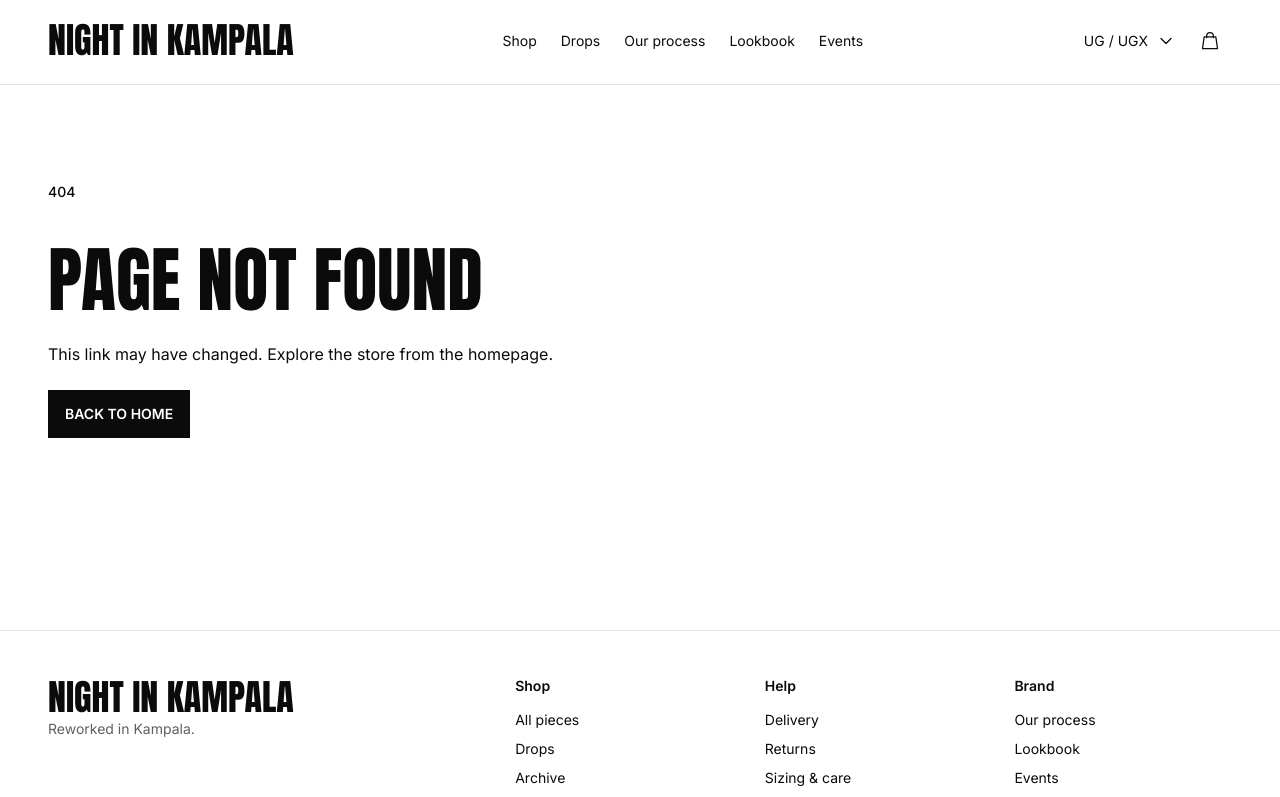
Scenario: server 404s display the useful not-found screen and navigation still works
Expected: the heading "PAGE NOT FOUND" is shown, [48, 242, 483, 318]
What coordinates should you click on to do the following:
click the link "Back to home"
I would click on:
 (119, 414)
Its box is [48, 390, 190, 438].
(page scrolled)
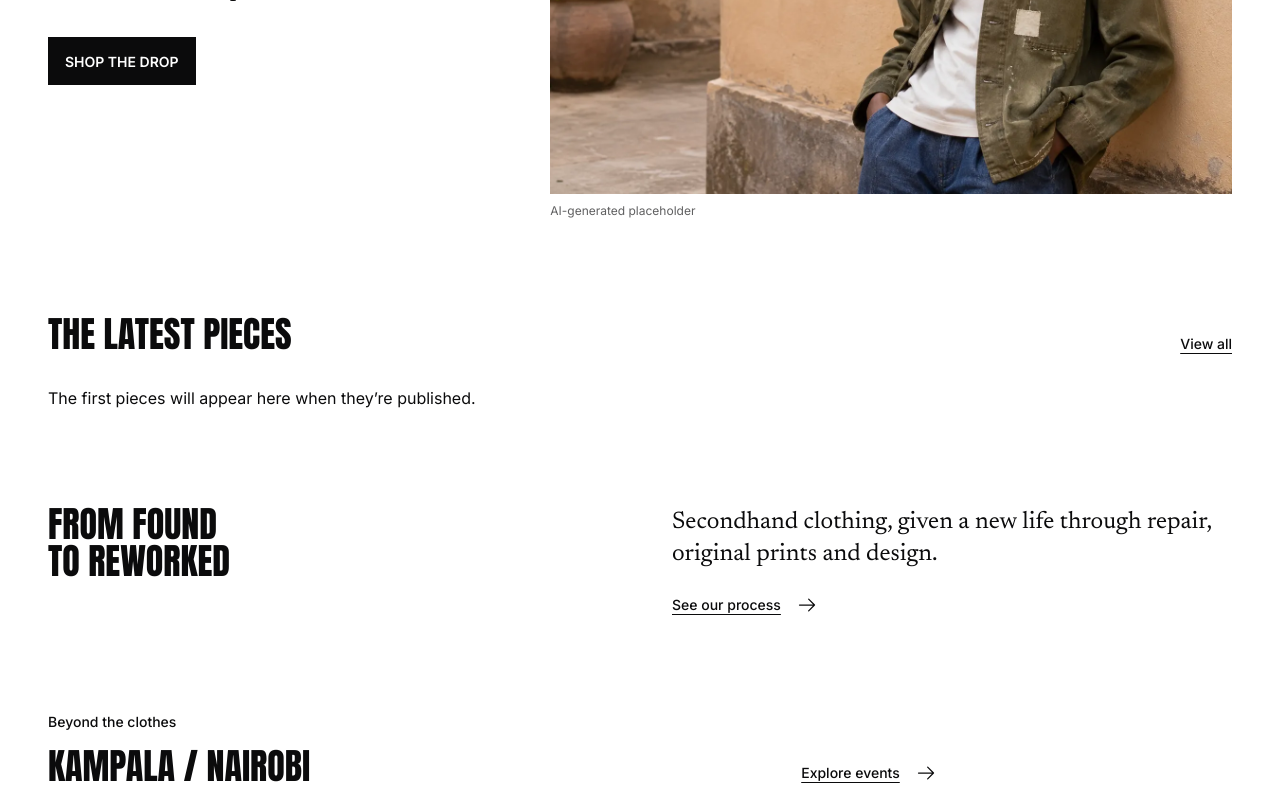
Result: the text "The first pieces will appear here when they’re published." is shown at [48, 388, 476, 408]
